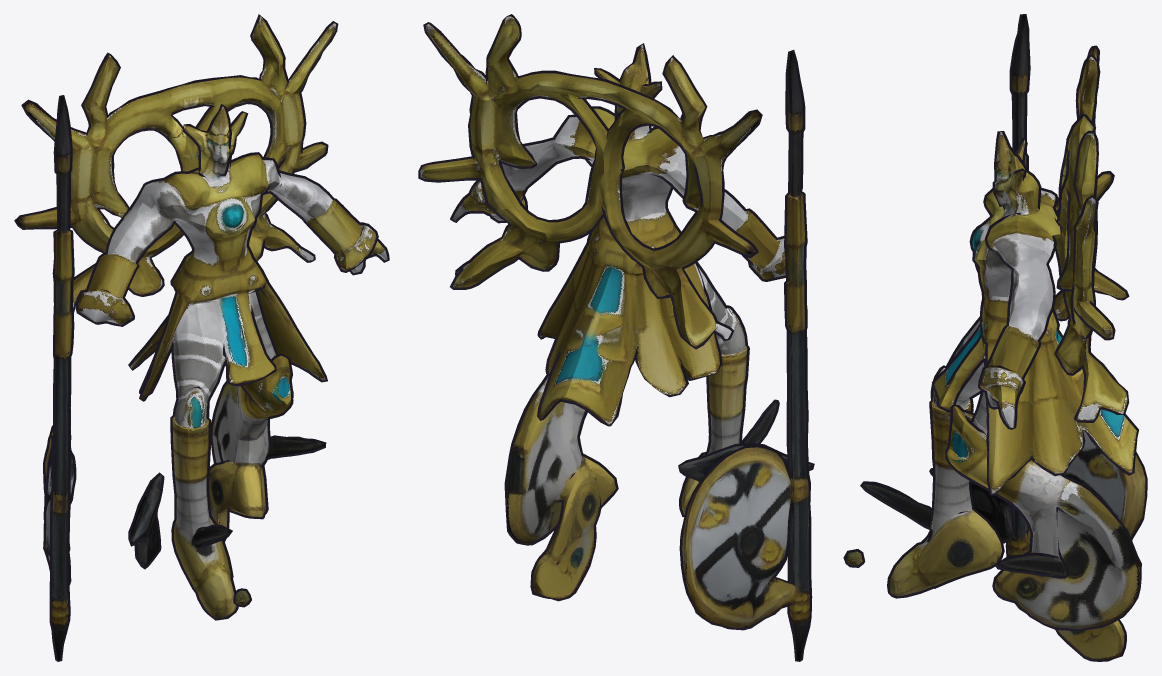
Rendered from monster.glb.
The picture shows the model from 3 angles, left to right: view 1: azimuth 30°, elevation 25°; view 2: azimuth 150°, elevation 25°; view 3: azimuth 270°, elevation 25°; orthographic projection. The views are drawn at different scales.
Parts seen in each view (by area): view 1: body, leg_fr-mesh (×2), leg_br-mesh (×2), leg_bl-mesh (×2), leg_fl-mesh (×2), head-mesh (×2); view 2: body, leg_fr-mesh (×2), leg_br-mesh (×2), leg_bl-mesh (×2), leg_fl-mesh (×2), head-mesh; view 3: body, leg_bl-mesh (×2), leg_br-mesh (×2), leg_fl-mesh (×2), head-mesh (×2), leg_fr-mesh (×2).
Boxes of the visible parts, box(x1,y1,x2,y2) form: body: box(27, 14, 338, 453); leg_fr-mesh (×2): box(14, 95, 180, 661); leg_br-mesh (×2): box(43, 364, 251, 620); leg_bl-mesh (×2): box(209, 381, 326, 541); leg_fl-mesh (×2): box(265, 152, 389, 329); head-mesh (×2): box(175, 111, 264, 216); body: box(418, 14, 752, 425); leg_fr-mesh (×2): box(678, 50, 812, 661); leg_br-mesh (×2): box(601, 349, 814, 630); leg_bl-mesh (×2): box(504, 374, 618, 601); leg_fl-mesh (×2): box(450, 137, 587, 293); head-mesh: box(595, 56, 667, 153); body: box(929, 54, 1138, 495); leg_bl-mesh (×2): box(949, 462, 1141, 661); leg_br-mesh (×2): box(843, 400, 1147, 598); leg_fl-mesh (×2): box(978, 254, 1069, 429); head-mesh (×2): box(973, 138, 1038, 241); leg_fr-mesh (×2): box(974, 14, 1114, 556).
Bounding box in the file's own units: 1.09 × 1.75 × 0.812.
Materials: 2 (1 with a texture image).
